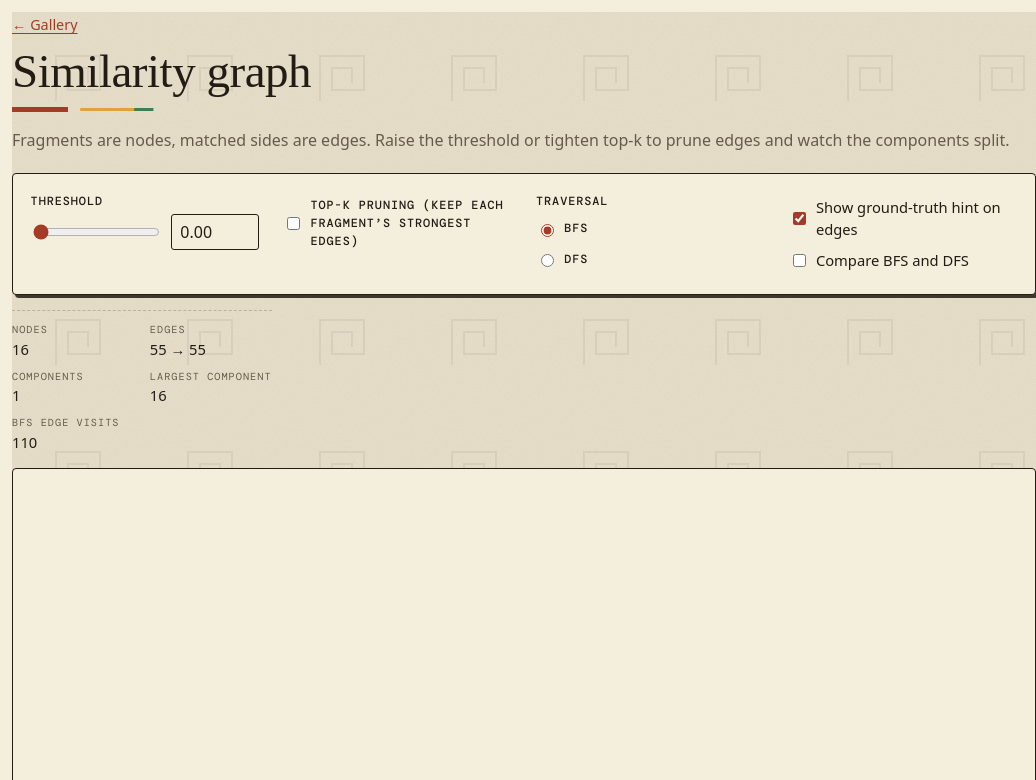
Test case: GraphPage controls › validates a typed threshold
Replace the text in the number field named "Threshold value" with "1.5" at (215, 232), box 171,214 -> 259,250
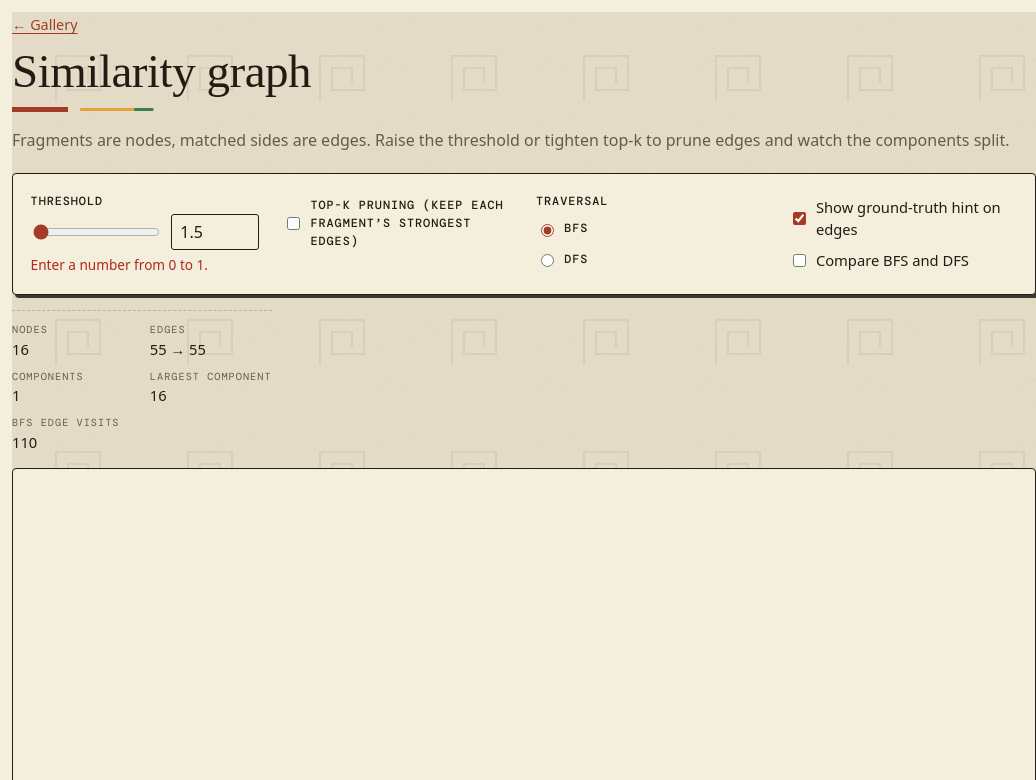
Expected: the message reads "Enter a number from 0 to 1.", 31,255 -> 208,274
